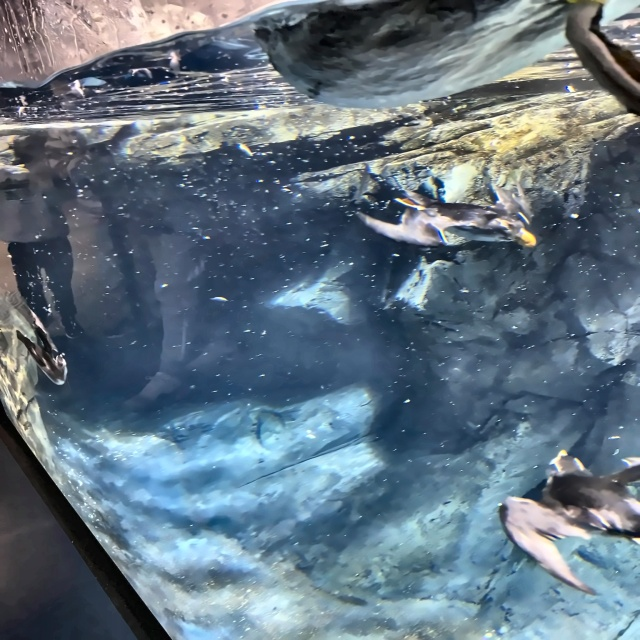puffin: (254, 0, 639, 122), (497, 448, 639, 596), (352, 181, 538, 248)
